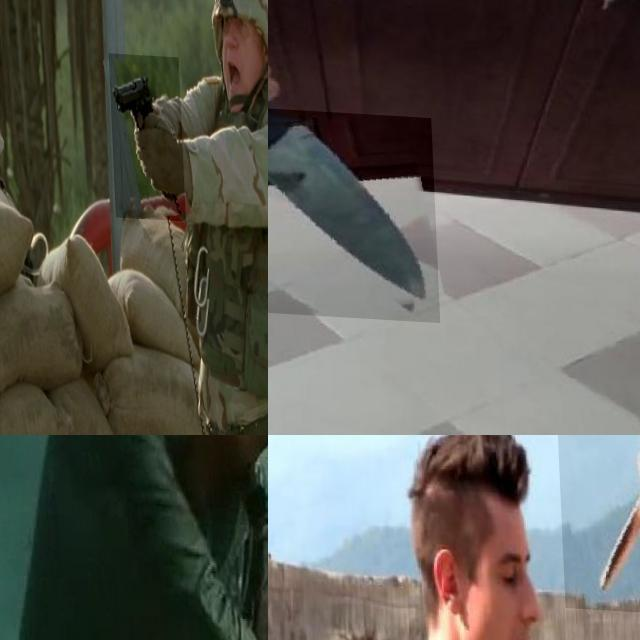-: (268, 103, 436, 317), (557, 435, 640, 611)
gun-knife-thesis - v11 Yolov5 augmented: (107, 48, 183, 215)
